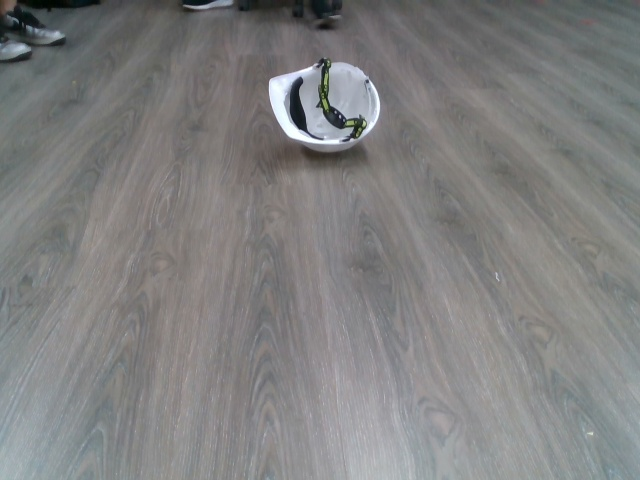helmet: (266, 52, 388, 158)
